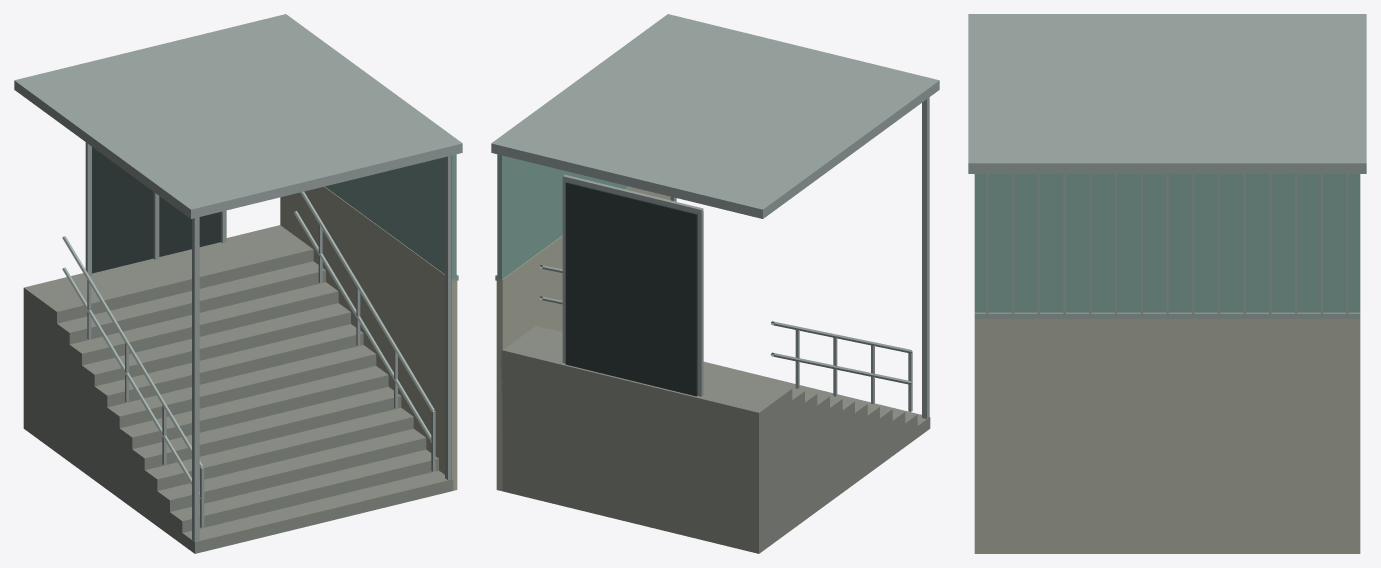
The model's file is common-covered-entrance.glb.
3 renders of one model, left to right at view 1: azimuth 30°, elevation 25°; view 2: azimuth 150°, elevation 25°; view 3: azimuth 270°, elevation 25°, orthographic. The views are drawn at different scales.
Parts seen in each view (by area): view 1: concrete both, metal both, pale both, glass both, infill both, metal near; view 2: metal both, concrete both, glass both, infill both, pale both, metal near; view 3: pale both, metal both, infill both, metal near.
Part boxes in pixels (x1,y1,x2,y2): concrete both: (23,225,453,553); metal both: (14,14,462,541); pale both: (280,186,457,490); glass both: (92,147,220,273); infill both: (325,154,456,279); metal near: (62,191,435,527); metal both: (491,14,939,418); concrete both: (500,326,930,553); glass both: (565,182,697,396); infill both: (497,154,628,279); pale both: (496,186,670,491); metal near: (539,265,912,411); pale both: (974,319,1360,553); metal both: (968,14,1366,318); infill both: (974,174,1360,312); metal near: (986,174,1348,316).
Bounding box in the file's own units: 3.63 × 4.44 × 4.09.
